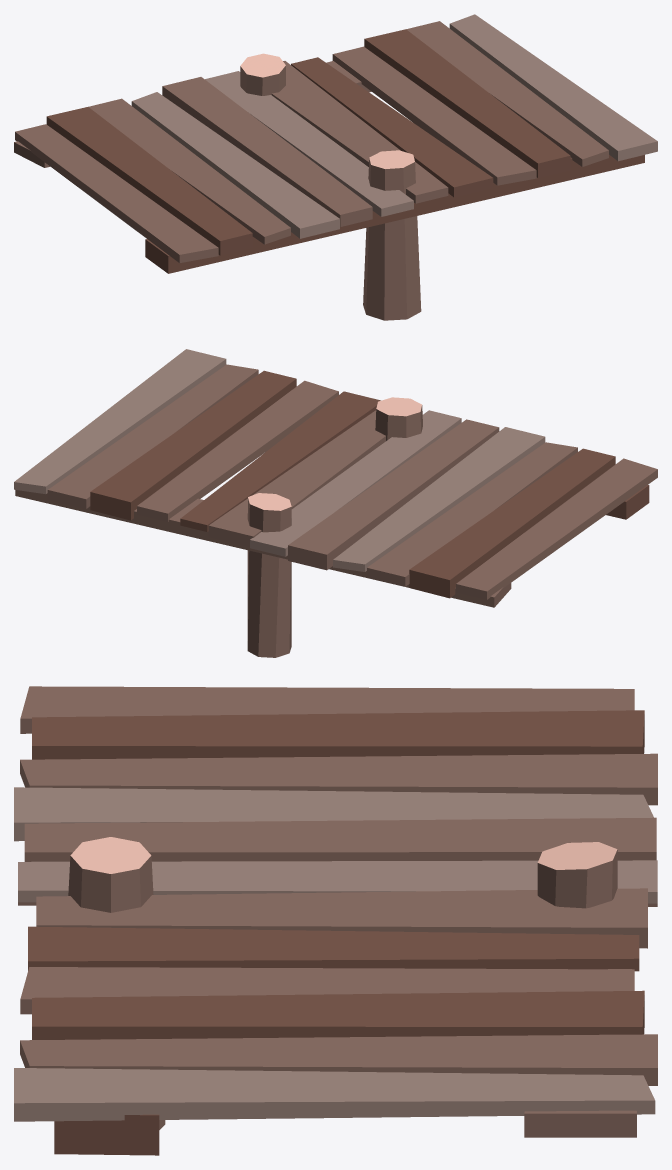
The model's file is Building_006.glb.
3 renders of one model, top to bottom at view 1: azimuth 30°, elevation 25°; view 2: azimuth 150°, elevation 25°; view 3: azimuth 270°, elevation 25°, orthographic. The views are drawn at different scales.
Visible parts, largest first — view 1: Building_006; view 2: Building_006; view 3: Building_006.
Boxes of the visible parts, x1=… form: Building_006: x1=14, y1=14, x2=657, y2=320; Building_006: x1=14, y1=349, x2=657, y2=657; Building_006: x1=14, y1=686, x2=657, y2=1155.
Bounding box in the file's own units: 5.38 × 1.63 × 3.49.
Materials: 1 (1 with a texture image).
